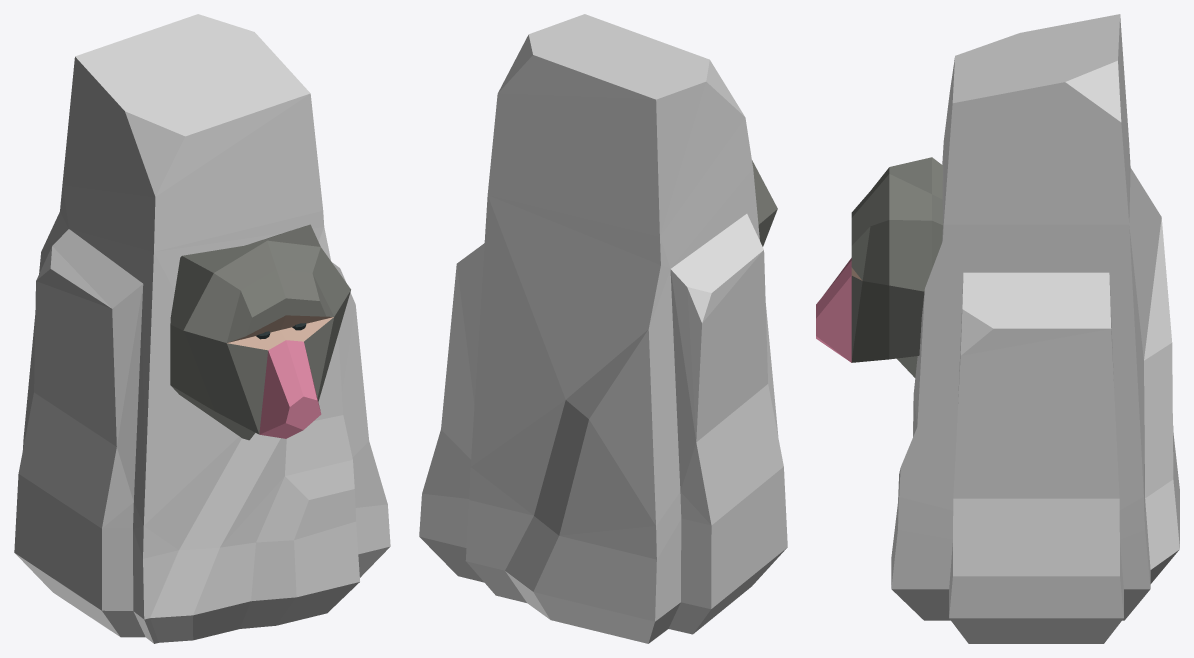
Rendered from Baboon Rock.fbx.
3 renders of one model, left to right at view 1: azimuth 30°, elevation 25°; view 2: azimuth 150°, elevation 25°; view 3: azimuth 270°, elevation 25°, orthographic.
Parts seen in each view (by area): view 1: Rock, Baboon; view 2: Rock, Baboon; view 3: Rock, Baboon.
Part boxes in pixels (x1=…): Rock: x1=14, y1=14, x2=390, y2=643; Baboon: x1=170, y1=224, x2=350, y2=440; Rock: x1=419, y1=14, x2=787, y2=643; Baboon: x1=752, y1=160, x2=777, y2=246; Rock: x1=891, y1=14, x2=1179, y2=643; Baboon: x1=816, y1=157, x2=942, y2=377.
Size of the model in its own units: 4.25 by 7.55 by 4.59.
